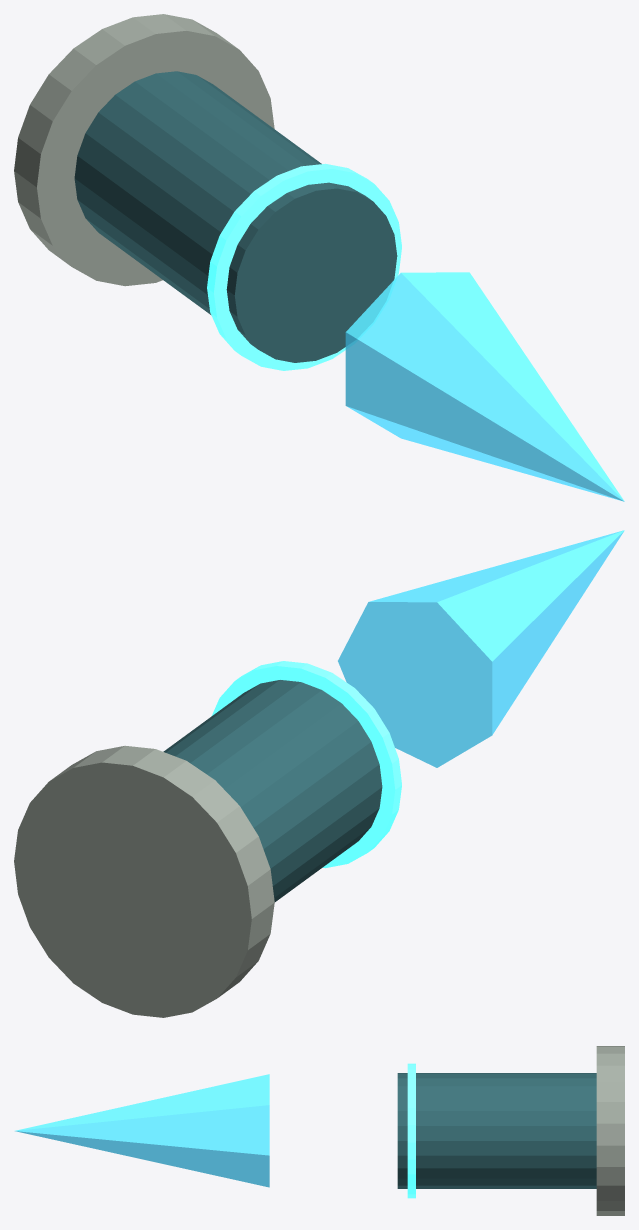
The model's file is 02_Resonance_Spire.glb.
3 renders of one model, top to bottom at view 1: azimuth 30°, elevation 25°; view 2: azimuth 150°, elevation 25°; view 3: azimuth 270°, elevation 25°, orthographic. The views are drawn at different scales.
Visible parts, largest first — view 1: 02_Resonance_Spire_01, 02_Resonance_Spire_02, 02_Resonance_Spire_00, 02_Resonance_Spire_03; view 2: 02_Resonance_Spire_00, 02_Resonance_Spire_02, 02_Resonance_Spire_01, 02_Resonance_Spire_03; view 3: 02_Resonance_Spire_01, 02_Resonance_Spire_02, 02_Resonance_Spire_00, 02_Resonance_Spire_03.
Boxes of the visible parts, x1=… form: 02_Resonance_Spire_01: x1=74, y1=71, x2=397, y2=362; 02_Resonance_Spire_02: x1=345, y1=272, x2=624, y2=501; 02_Resonance_Spire_00: x1=14, y1=14, x2=274, y2=286; 02_Resonance_Spire_03: x1=207, y1=163, x2=401, y2=370; 02_Resonance_Spire_00: x1=14, y1=745, x2=274, y2=1017; 02_Resonance_Spire_02: x1=338, y1=530, x2=624, y2=767; 02_Resonance_Spire_01: x1=163, y1=680, x2=382, y2=902; 02_Resonance_Spire_03: x1=212, y1=661, x2=401, y2=868; 02_Resonance_Spire_01: x1=397, y1=1073, x2=596, y2=1188; 02_Resonance_Spire_02: x1=15, y1=1074, x2=269, y2=1187; 02_Resonance_Spire_00: x1=596, y1=1046, x2=624, y2=1215; 02_Resonance_Spire_03: x1=407, y1=1063, x2=415, y2=1198.
Bounding box in the file's own units: 2.4 × 2.4 × 8.6.
